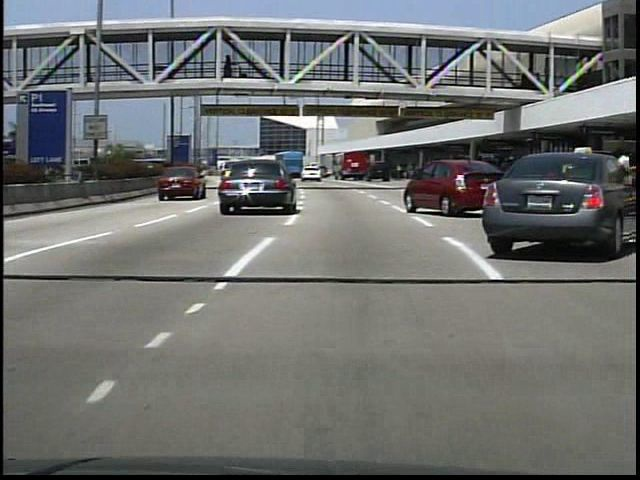person: (225, 54, 239, 82)
